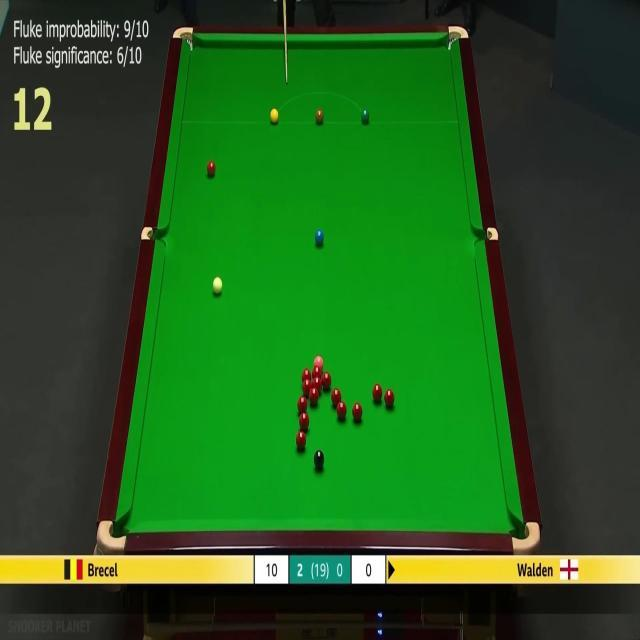Ball: (298, 412, 310, 429), (296, 430, 306, 448), (384, 389, 394, 407), (332, 388, 342, 406), (212, 277, 222, 295), (352, 403, 362, 420), (314, 451, 324, 468), (372, 384, 382, 401), (336, 401, 346, 418), (322, 372, 332, 389), (314, 354, 324, 370), (309, 388, 319, 404), (314, 229, 324, 244), (298, 397, 308, 412), (312, 377, 322, 392), (270, 108, 279, 124), (302, 380, 312, 394), (302, 368, 312, 382), (207, 161, 216, 176), (312, 366, 322, 378), (316, 109, 324, 122), (362, 109, 369, 122)
